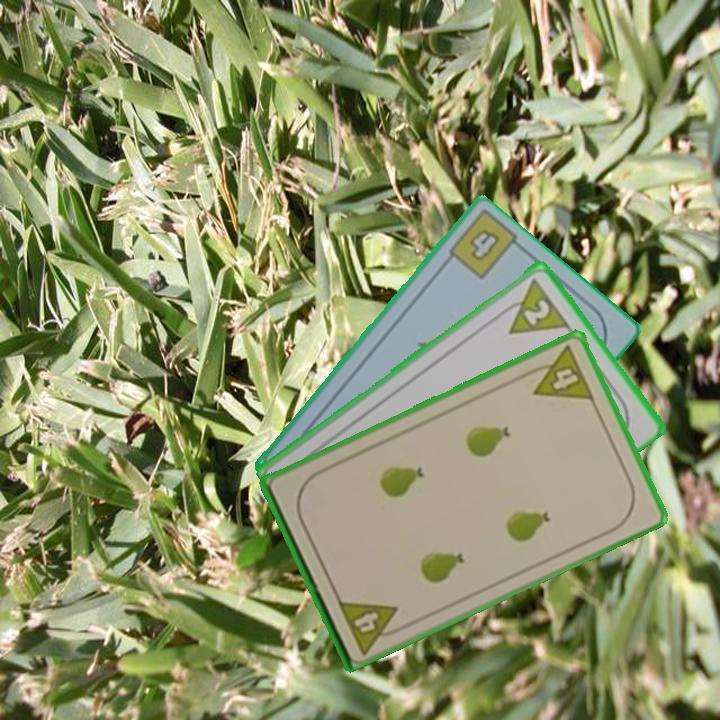2p: (493, 274, 572, 337)
4b: (465, 224, 503, 264)
4p: (521, 342, 597, 403), (333, 595, 408, 656)
